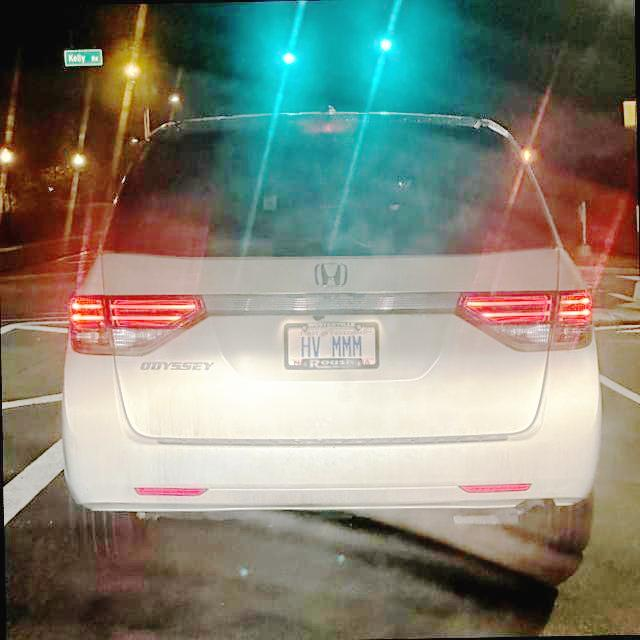license_plate: (287, 322, 381, 369)
